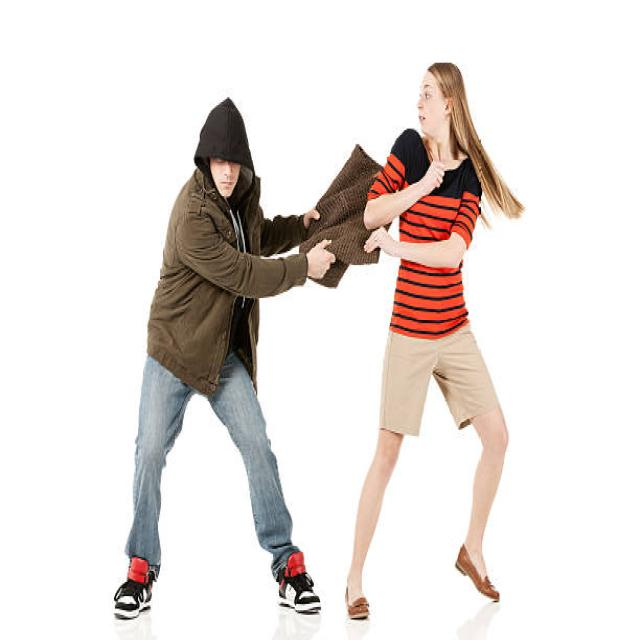Theft_Snatching: (206, 85, 479, 328)
